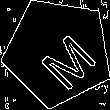M_NW: (23, 18, 92, 87)
